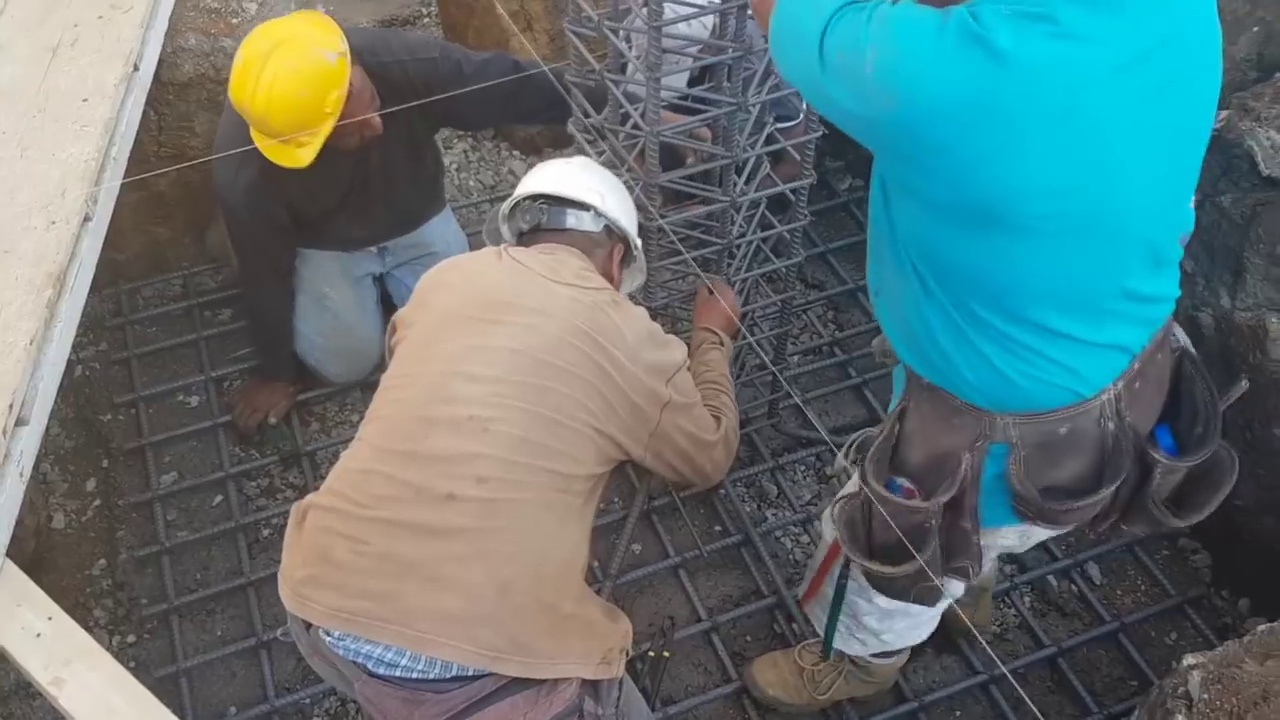helmet: (230, 20, 356, 171), (495, 154, 650, 267)
helmet-off: (614, 2, 729, 113)
helmet-on: (223, 7, 392, 176), (495, 146, 651, 303)
person: (767, 0, 1217, 702), (280, 147, 742, 717), (205, 0, 577, 432), (604, 0, 812, 219)
